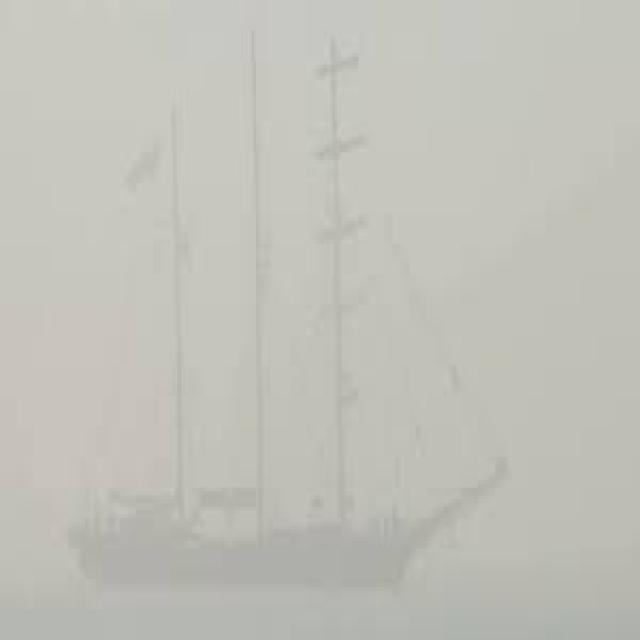fishing boat: (72, 38, 515, 590)
